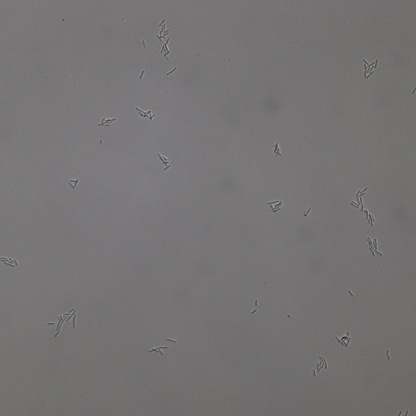R(colony): (351, 187, 378, 226), (49, 307, 77, 339), (361, 57, 379, 79), (366, 236, 384, 256), (312, 356, 327, 377), (157, 150, 172, 170), (336, 331, 352, 349), (267, 199, 284, 214), (157, 19, 168, 41), (137, 107, 155, 120), (161, 39, 172, 60), (98, 117, 115, 130), (1, 256, 18, 268), (149, 346, 168, 356), (272, 142, 282, 157)
